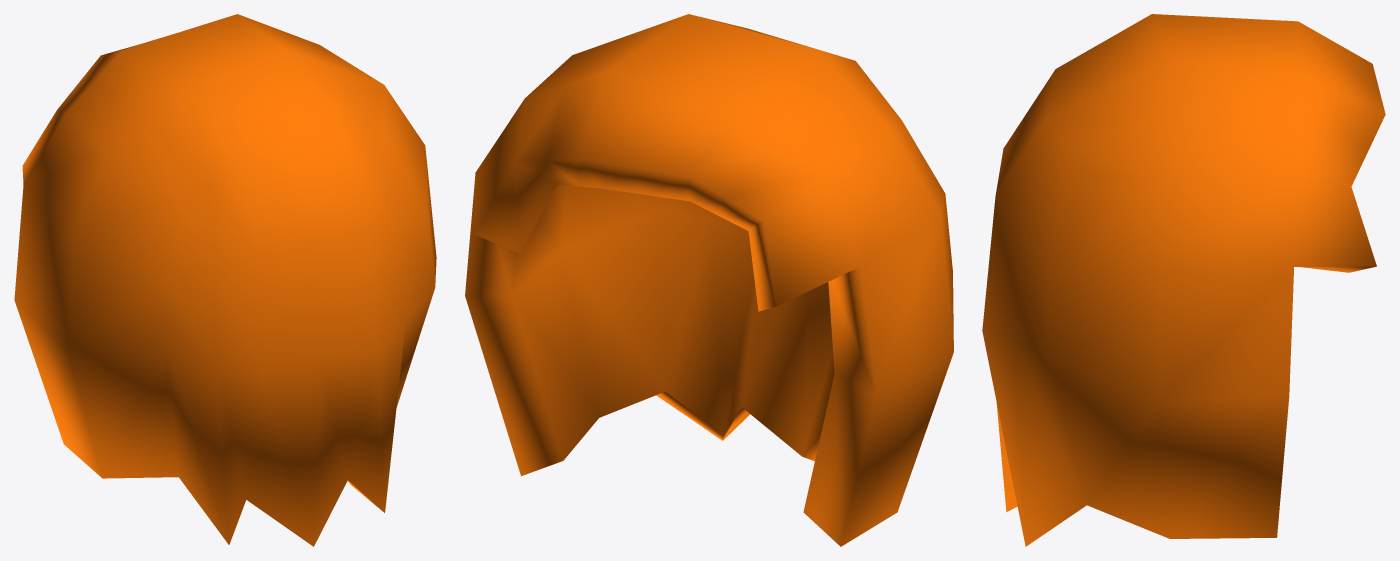
The model's file is Hair_Long_Red.fbx.
3 renders of one model, left to right at view 1: azimuth 30°, elevation 25°; view 2: azimuth 150°, elevation 25°; view 3: azimuth 270°, elevation 25°, orthographic. The views are drawn at different scales.
Visible parts, largest first — view 1: Hair_Long_Red; view 2: Hair_Long_Red; view 3: Hair_Long_Red.
Boxes of the visible parts, x1=… form: Hair_Long_Red: x1=14, y1=14, x2=436, y2=546; Hair_Long_Red: x1=465, y1=14, x2=953, y2=546; Hair_Long_Red: x1=982, y1=14, x2=1385, y2=546.
Bounding box in the file's own units: 1.6 × 1.88 × 2.09.
